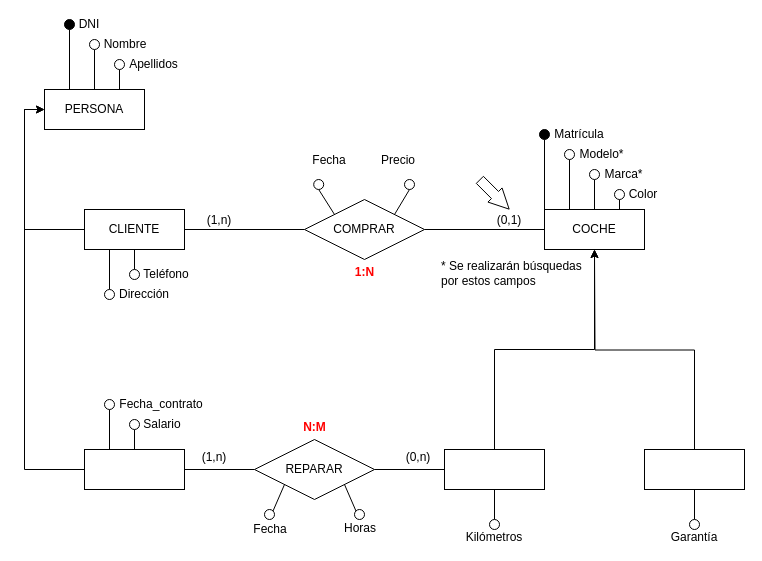
Image size: 762x561. Some labels were removed from this diagram. The centre of each missing label's shape, as x and y in pixels:
"MECÁNICO" belongs at point (134, 469).
"NUEVO" belongs at point (694, 469).
"USADO" belongs at point (494, 469).
